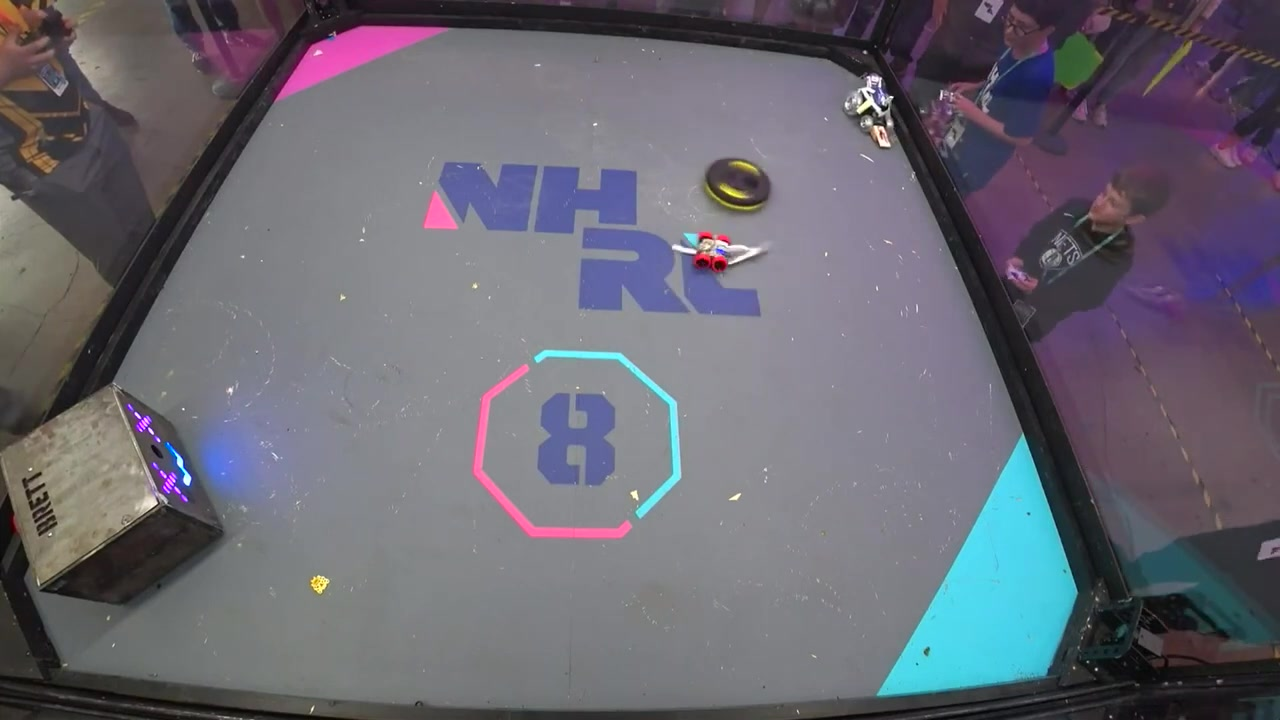combatbot: (699, 157, 772, 215), (844, 74, 896, 152)
housebot: (0, 384, 227, 607)
minibot: (673, 229, 772, 276)
